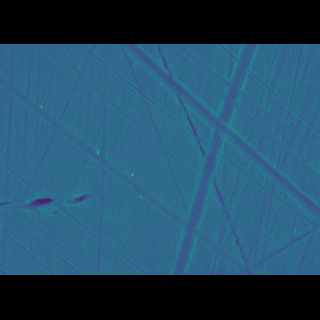Loch: (115, 77, 320, 206), (0, 182, 93, 199)
